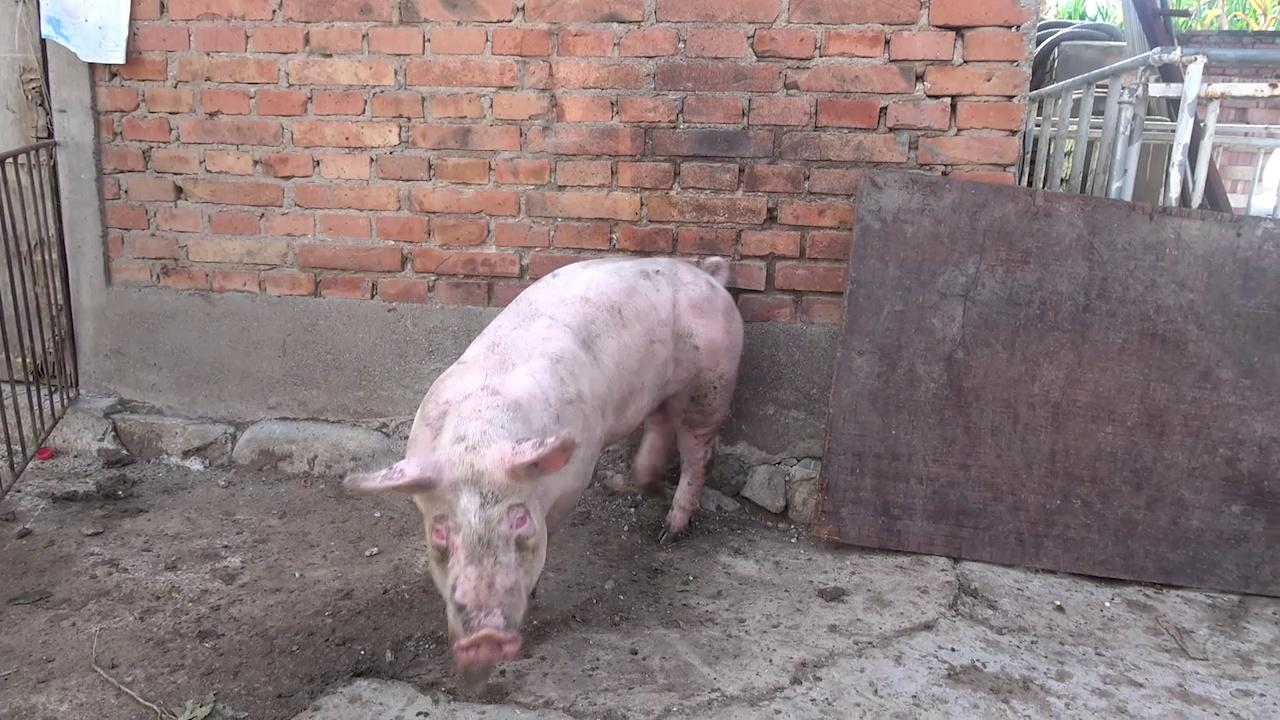Face: (336, 425, 588, 676)
